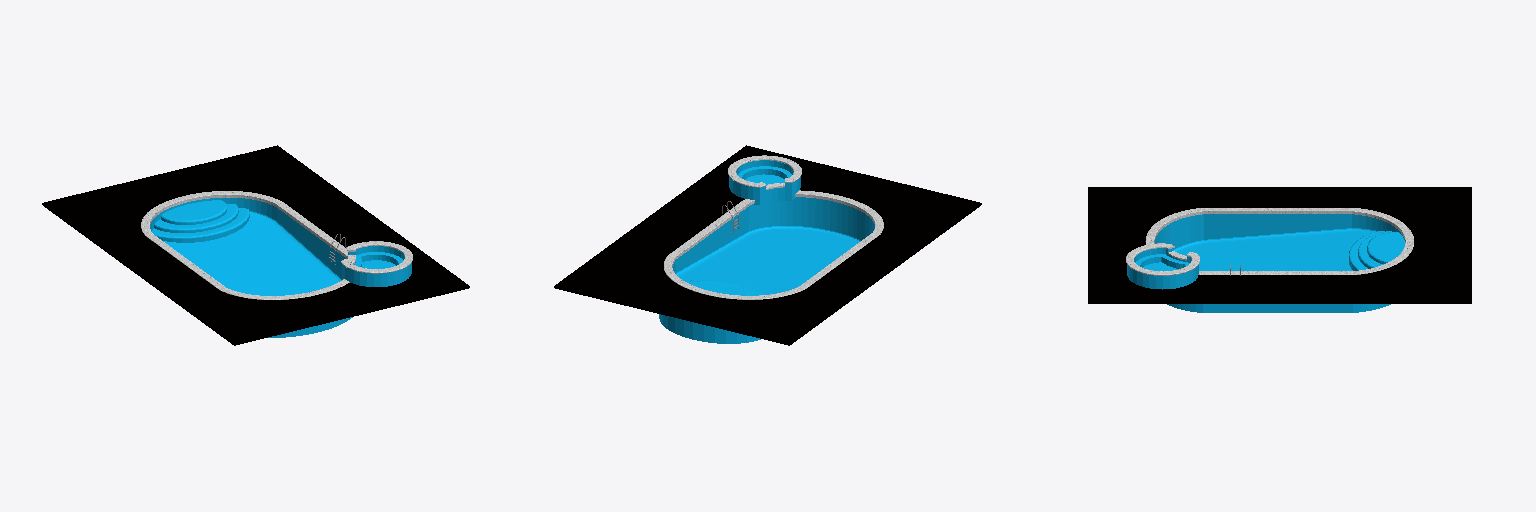
3 renders of one model, left to right at view 1: azimuth 30°, elevation 25°; view 2: azimuth 150°, elevation 25°; view 3: azimuth 270°, elevation 25°, orthographic.
Visible parts, largest first — view 1: oval_suelo_sombra, oval_sombra, escalera_obra_oval_sombra, oval_borde_sombra, jacuzzi_oval_sombra, jacuzzi_borde_oval_sombra; view 2: oval_suelo_sombra, oval_sombra, oval_borde_sombra, jacuzzi_oval_sombra, escalera_obra_oval_sombra, jacuzzi_borde_oval_sombra; view 3: oval_suelo_sombra, oval_sombra, oval_borde_sombra, jacuzzi_oval_sombra, escalera_obra_oval_sombra, jacuzzi_borde_oval_sombra.
Boxes of the visible parts, x1=… form: oval_suelo_sombra: x1=42, y1=145, x2=469, y2=345; oval_sombra: x1=150, y1=198, x2=352, y2=337; escalera_obra_oval_sombra: x1=151, y1=200, x2=249, y2=242; oval_borde_sombra: x1=141, y1=191, x2=349, y2=299; jacuzzi_oval_sombra: x1=342, y1=246, x2=411, y2=286; jacuzzi_borde_oval_sombra: x1=341, y1=241, x2=412, y2=273; oval_suelo_sombra: x1=554, y1=145, x2=981, y2=345; oval_sombra: x1=672, y1=197, x2=874, y2=294; oval_borde_sombra: x1=664, y1=190, x2=883, y2=299; jacuzzi_oval_sombra: x1=729, y1=160, x2=800, y2=204; escalera_obra_oval_sombra: x1=659, y1=280, x2=764, y2=343; jacuzzi_borde_oval_sombra: x1=728, y1=155, x2=801, y2=189; oval_suelo_sombra: x1=1088, y1=187, x2=1471, y2=303; oval_sombra: x1=1155, y1=214, x2=1404, y2=312; oval_borde_sombra: x1=1145, y1=208, x2=1413, y2=274; jacuzzi_oval_sombra: x1=1127, y1=248, x2=1198, y2=289; escalera_obra_oval_sombra: x1=1349, y1=231, x2=1404, y2=270; jacuzzi_borde_oval_sombra: x1=1126, y1=243, x2=1199, y2=275.
Size of the model in its own units: 669 by 147 by 945.
4 materials, 1 textured.